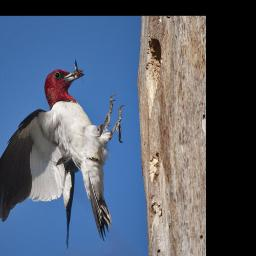Woodpecker: (0, 63, 124, 248)
